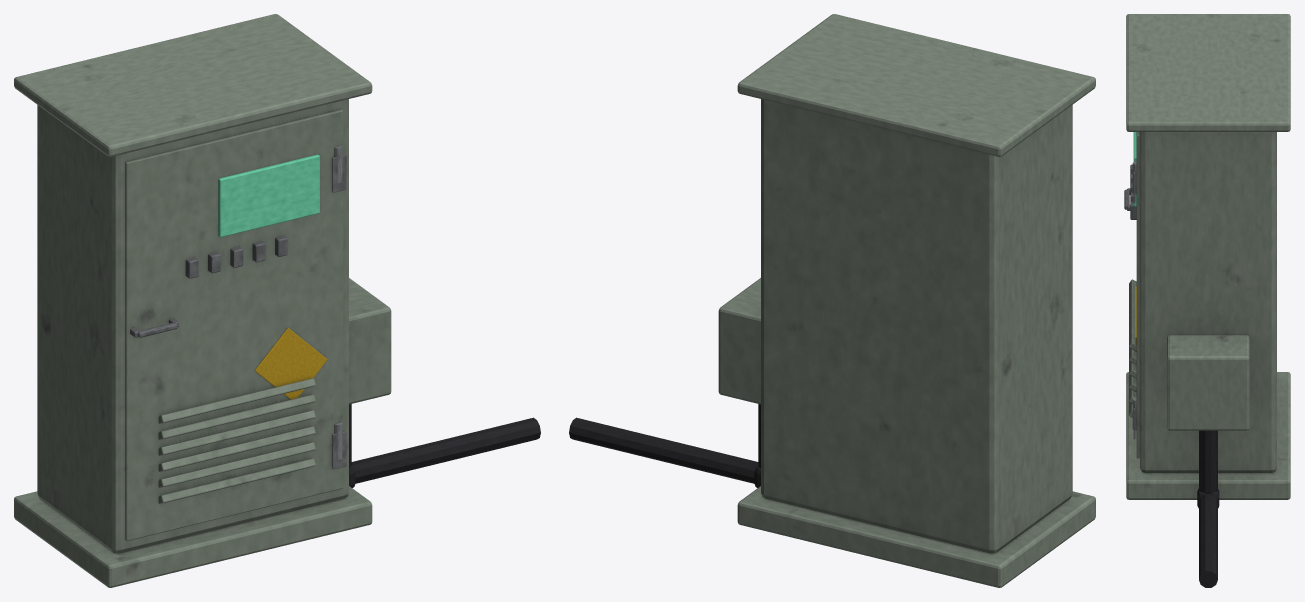
File: poi_electronics.glb
3 renders of one model, left to right at view 1: azimuth 30°, elevation 25°; view 2: azimuth 150°, elevation 25°; view 3: azimuth 270°, elevation 25°, orthographic. The views are drawn at different scales.
Parts seen in each view (by area): view 1: poi_electronics; view 2: poi_electronics; view 3: poi_electronics.
Boxes of the visible parts, x1,y1,x2,y2 form: poi_electronics: (14, 14, 540, 587); poi_electronics: (569, 14, 1095, 587); poi_electronics: (1124, 14, 1290, 587).
Size of the model in its own units: 1.71 by 1.56 by 0.607.
5 materials, 5 textured.
